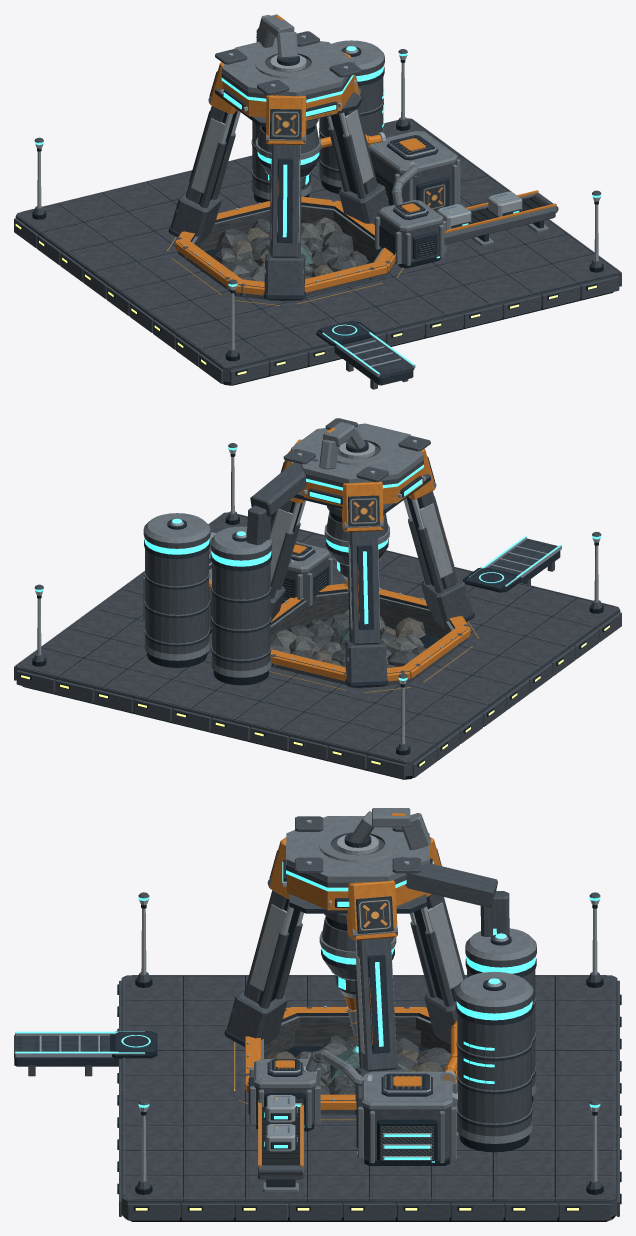
The model's file is EX03_ExtractorIndustrial.fbx.
3 views of the same model, one above another, from view 1: azimuth 30°, elevation 25°; view 2: azimuth 150°, elevation 25°; view 3: azimuth 270°, elevation 25° (orthographic). The views are drawn at different scales.
Parts seen in each view (by area): view 1: Estructura_3, Broca_3; view 2: Estructura_3, Broca_3; view 3: Estructura_3, Broca_3.
Boxes of the visible parts, x1=… form: Estructura_3: x1=14, y1=14, x2=621, y2=389; Broca_3: x1=255, y1=124, x2=321, y2=190; Estructura_3: x1=14, y1=418, x2=621, y2=779; Broca_3: x1=324, y1=511, x2=389, y2=597; Estructura_3: x1=14, y1=808, x2=621, y2=1221; Broca_3: x1=319, y1=916, x2=396, y2=1049.
Bounding box in the file's own units: 9.04 × 5.18 × 10.11.
